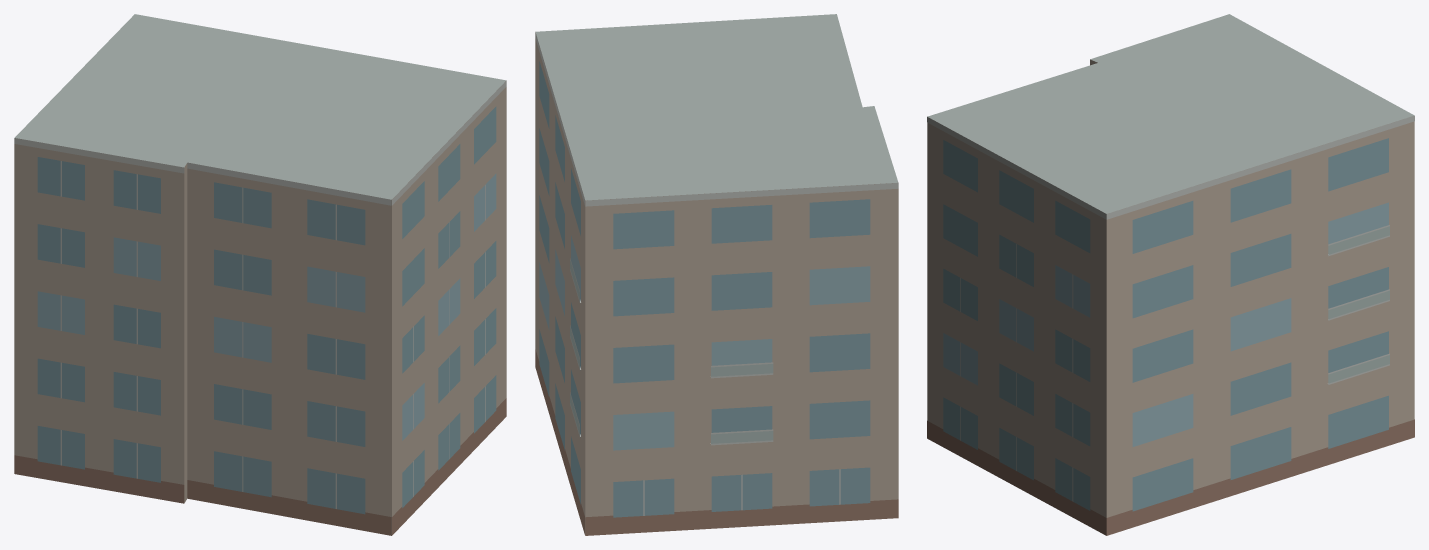
File: survey-upis-32729616.glb
The picture shows the model from 3 angles, left to right: view 1: azimuth 30°, elevation 25°; view 2: azimuth 150°, elevation 25°; view 3: azimuth 270°, elevation 25°; orthographic projection. The views are drawn at different scales.
Parts seen in each view (by area): view 1: survey-upis-32729616.tmp; view 2: survey-upis-32729616.tmp; view 3: survey-upis-32729616.tmp.
Boxes of the visible parts, bbox=[...] form: survey-upis-32729616.tmp: bbox=[14, 14, 506, 535]; survey-upis-32729616.tmp: bbox=[535, 14, 898, 535]; survey-upis-32729616.tmp: bbox=[927, 14, 1414, 535].
Size of the model in its own units: 18.06 by 13.55 by 18.61.
